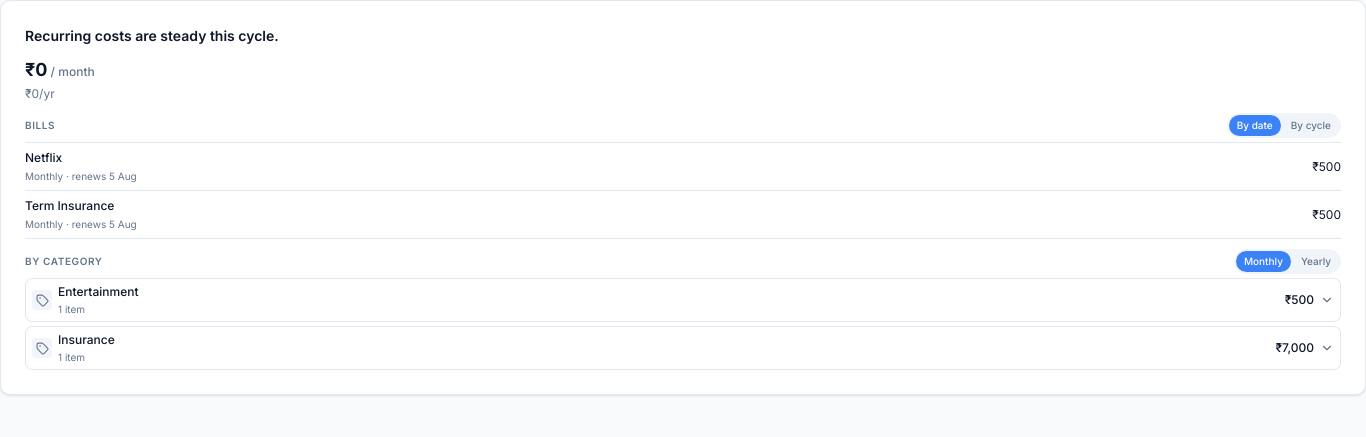
Test: SubscriptionAuditWidget › by category › expands a category to show only the items filed under it
Click the button "Entertainment 1 item ₹500" at (98, 292), box [26,279,1340,321]
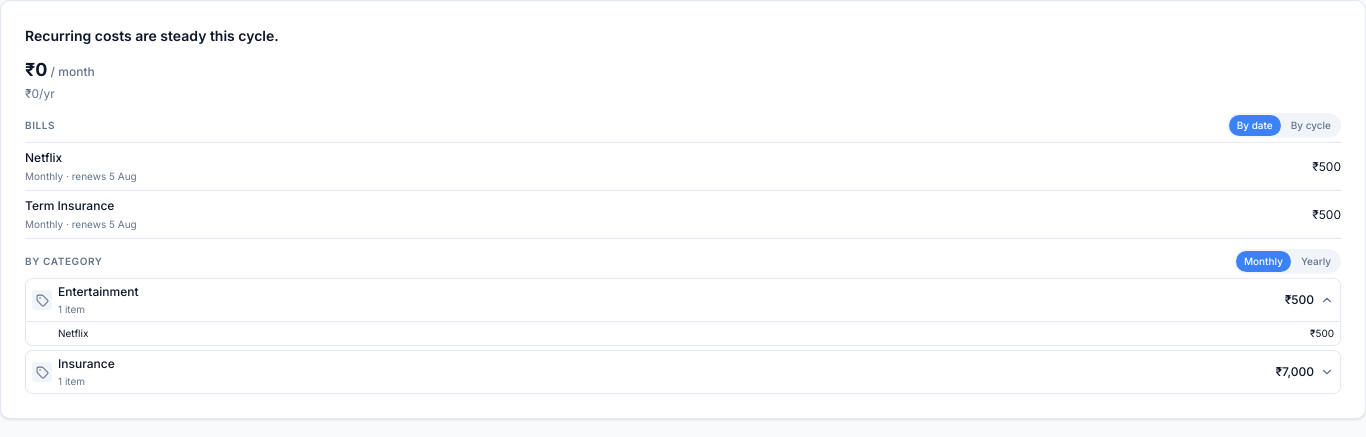
Expected: the element "Entertainment 1 item ₹500 Netflix ₹500" is shown, [25,278,1341,346]
Expected: the button "Entertainment 1 item ₹500" is expanded, [26,279,1340,321]
